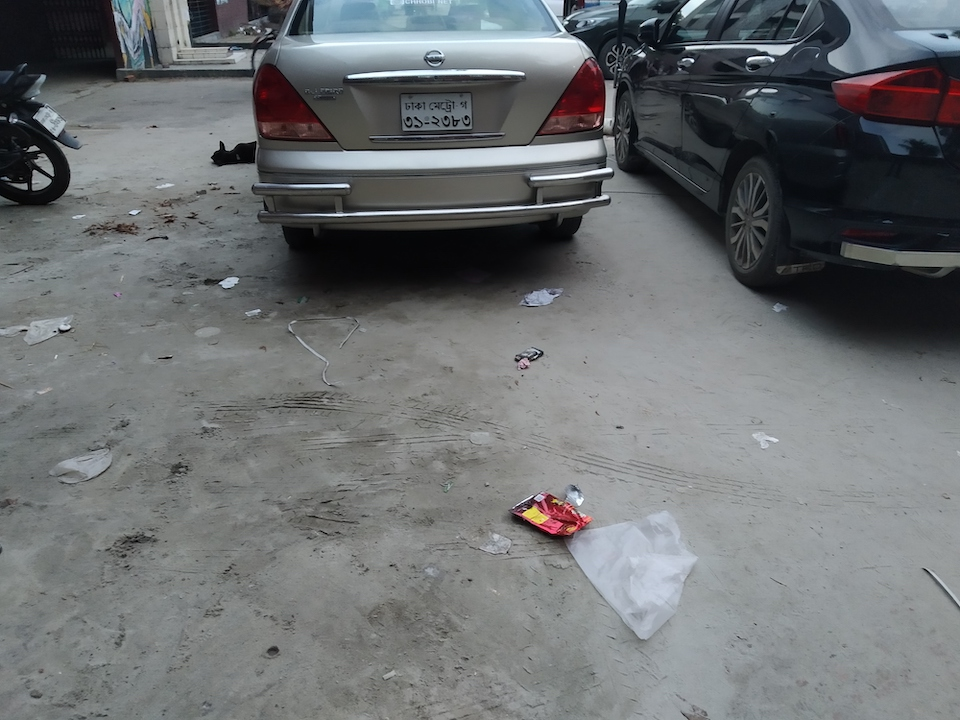registration_plate: (399, 91, 474, 131)
